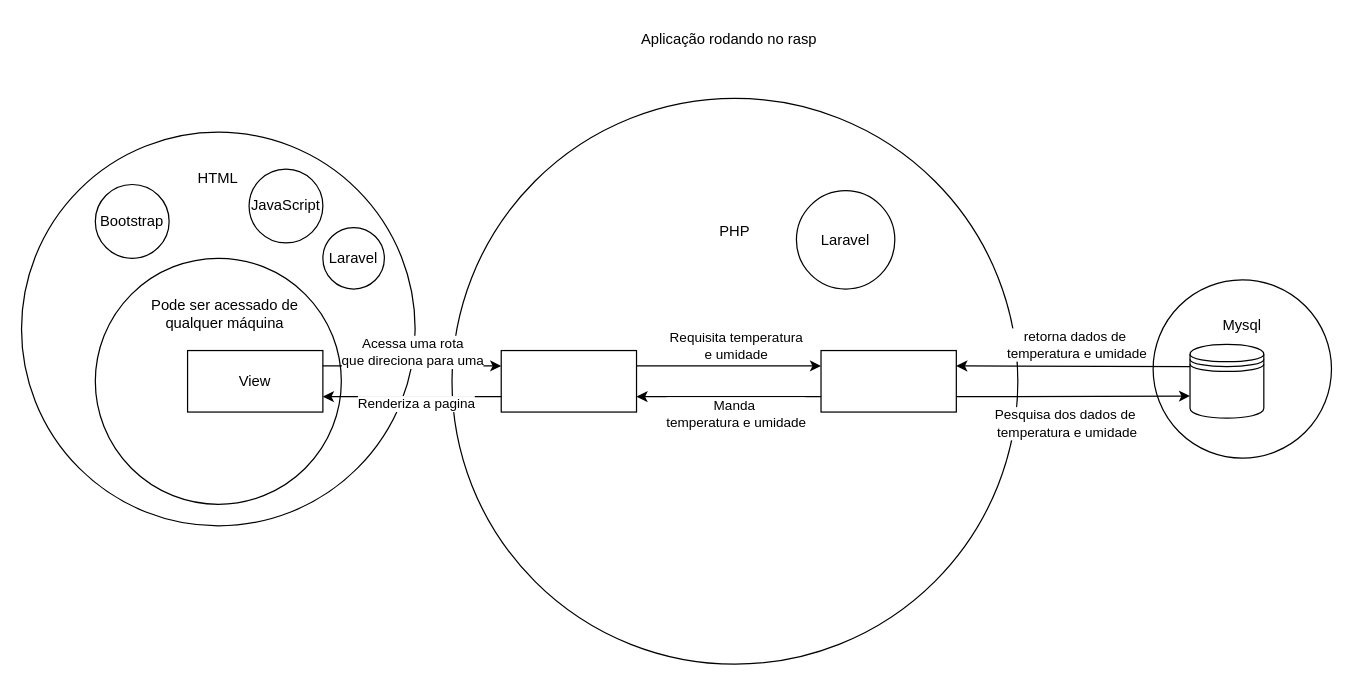
The diagram is 1353 pixels wide and 685 high, and some of its shapes have lost their labels. Each missing label, with the centre of its shape:
"Banco de dados" goes at pixel 1226 380.
"Controller" goes at pixel 568 380.
"Model" goes at pixel 888 380.
